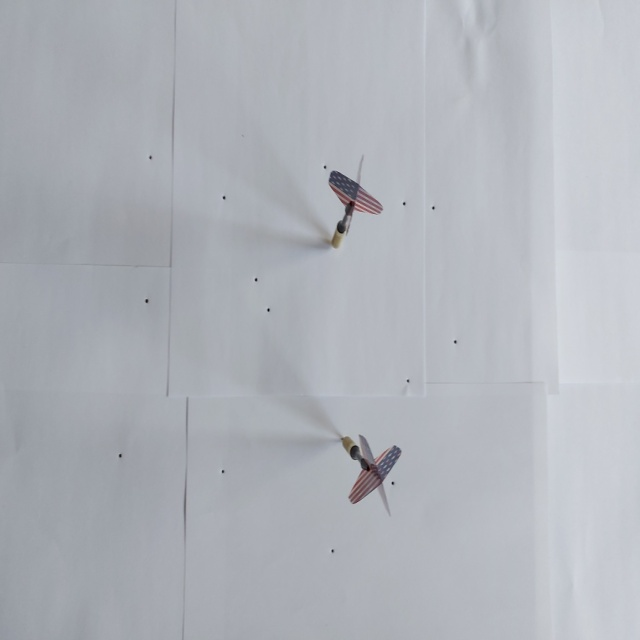Dart: (333, 423, 405, 523), (322, 151, 387, 256)
